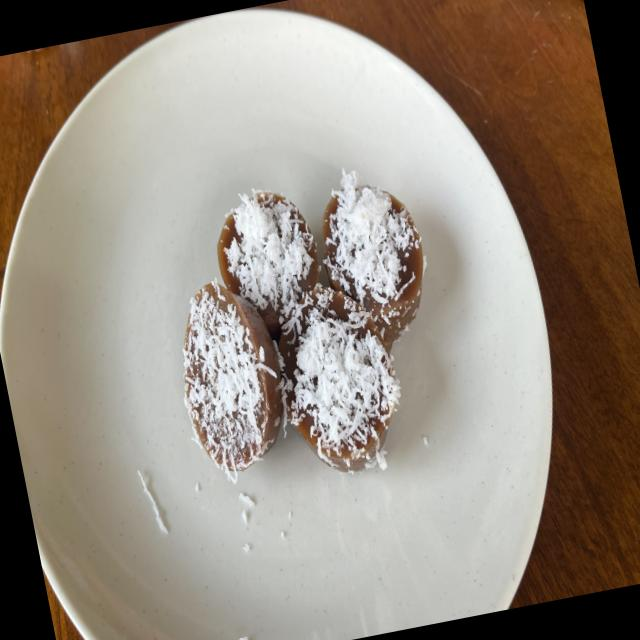Kuih lompang: (279, 284, 401, 473), (183, 281, 283, 481), (322, 170, 425, 350), (217, 190, 320, 340)
